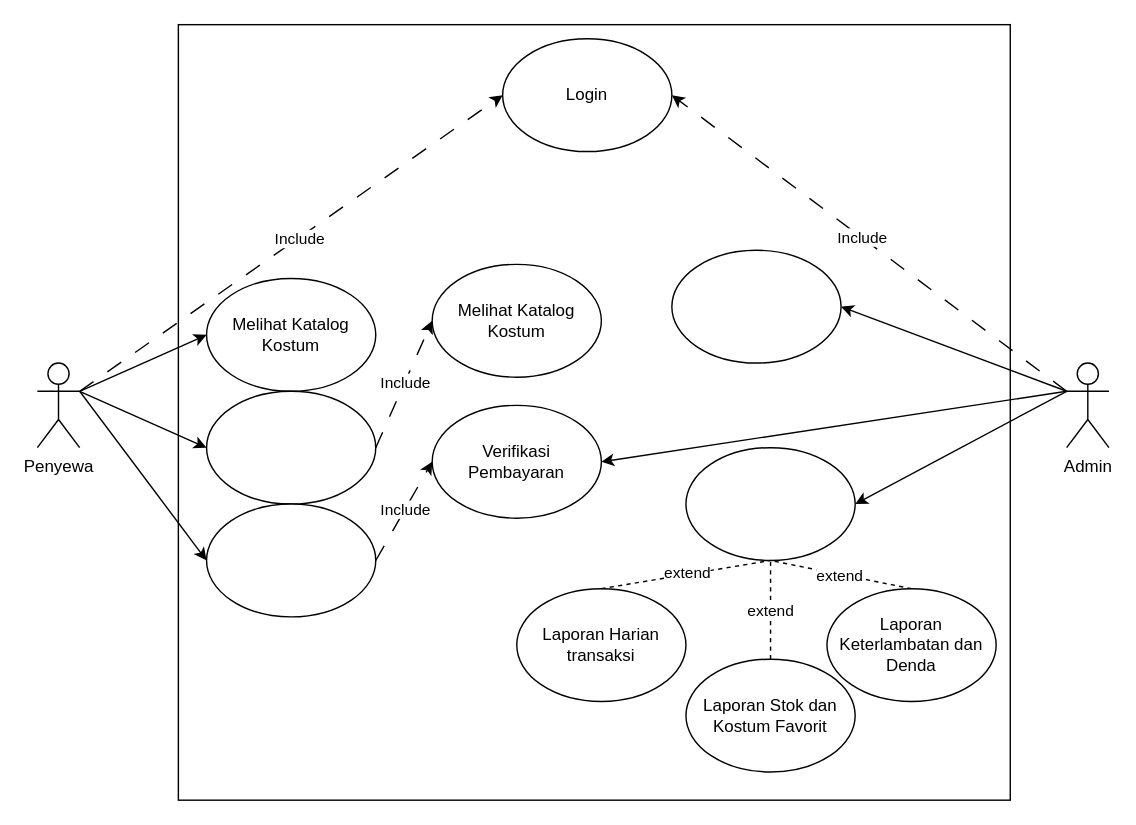
This 1136x825 diagram has some shape labels left out. Here are the shapes that lost their labels. From the top down, the centre of each, then its label:
At (x=755, y=306): "Kelola data Kostum".
At (x=290, y=447): "Membuat Pesanan Sewa".
At (x=770, y=503): "Membuat Laporan Penyewaan".
At (x=290, y=560): "Mengunggah Bukti Pembayaran".
